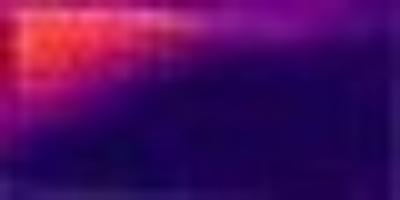Shadow: (2, 82, 399, 200), (127, 1, 400, 82)
